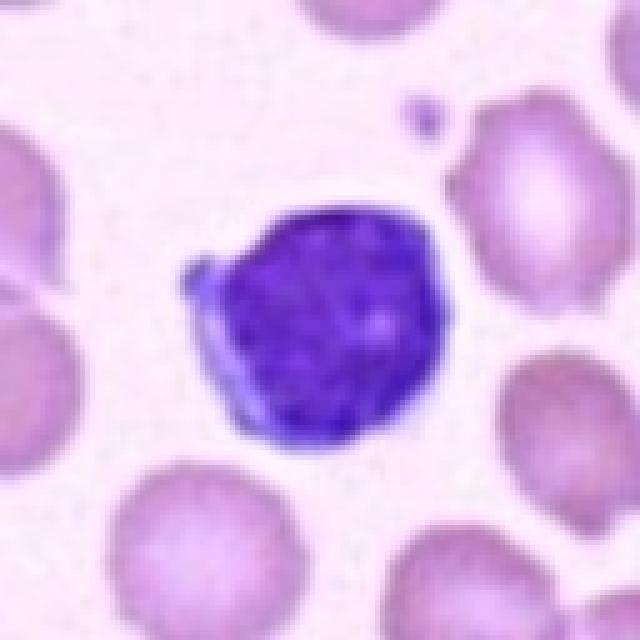lympho: (169, 196, 468, 453)
